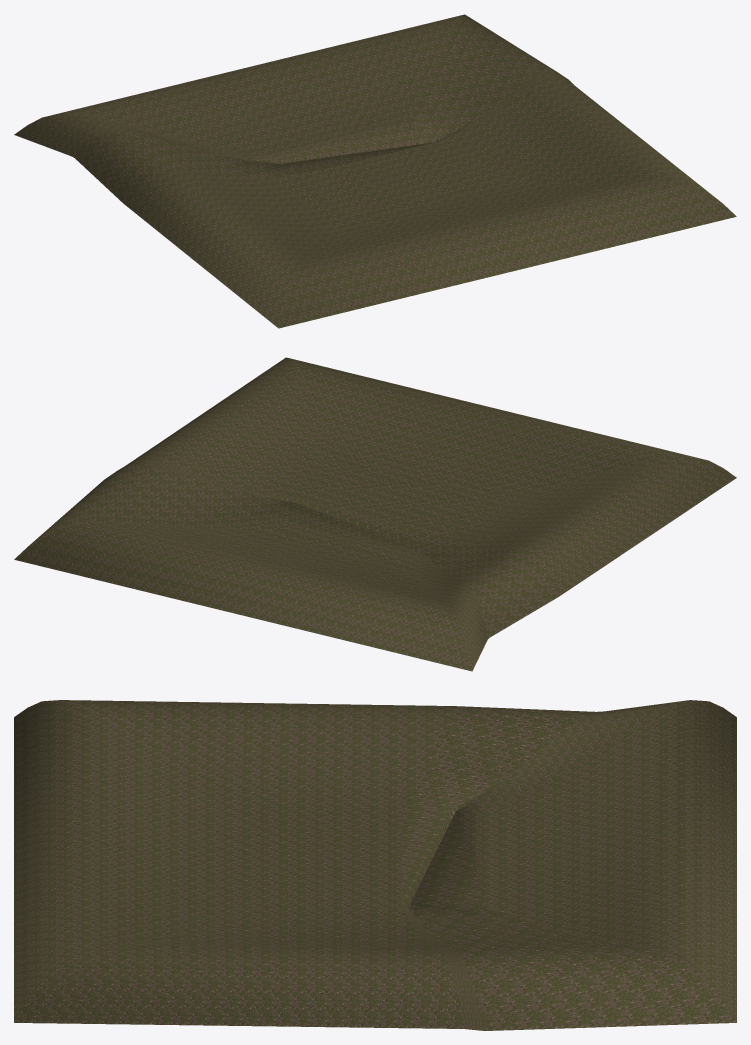
The model's file is TERRENO GRANDE.fbx.
3 renders of one model, top to bottom at view 1: azimuth 30°, elevation 25°; view 2: azimuth 150°, elevation 25°; view 3: azimuth 270°, elevation 25°, orthographic. The views are drawn at different scales.
Visible parts, largest first — view 1: Plane.017; view 2: Plane.017; view 3: Plane.017.
Part boxes in pixels (x1,y1,x2,y2): Plane.017: (14,14,736,328); Plane.017: (14,357,736,671); Plane.017: (14,700,736,1030).
Size of the model in its own units: 158195 by 9489 by 154129.
